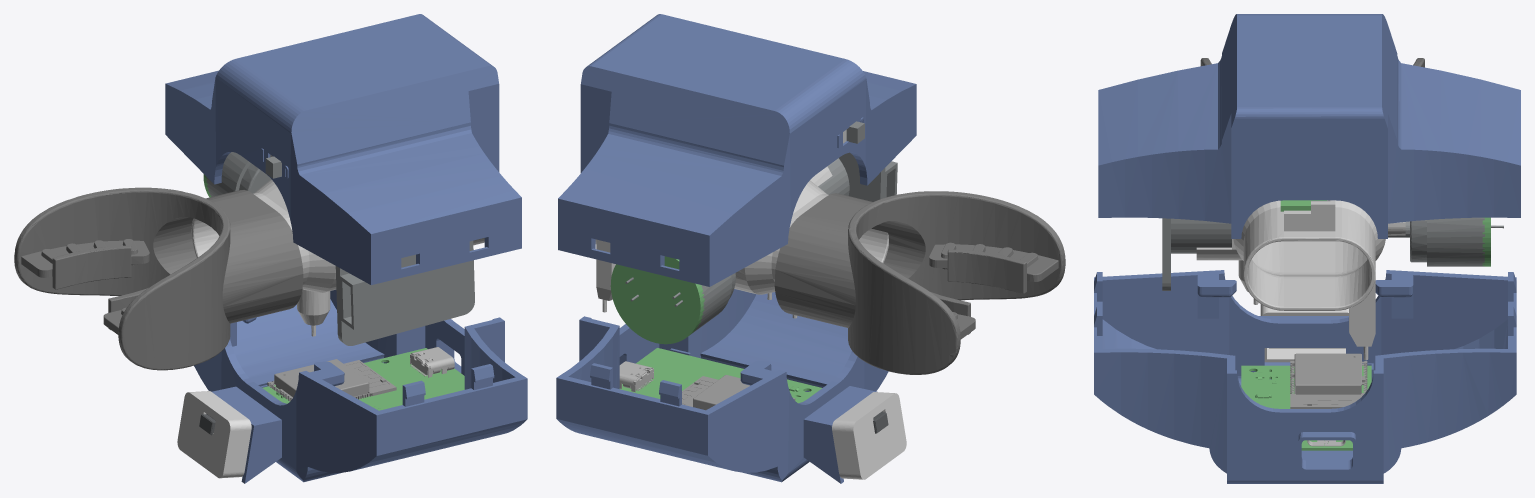
Rendered from Aerostim.glb.
The picture shows the model from 3 angles, left to right: view 1: azimuth 30°, elevation 25°; view 2: azimuth 150°, elevation 25°; view 3: azimuth 270°, elevation 25°; orthographic projection. The views are drawn at different scales.
Parts seen in each view (by area): view 1: Mesh_Mesh_head_geo.001_lambert2SG.001; view 2: Mesh_Mesh_head_geo.001_lambert2SG.001; view 3: Mesh_Mesh_head_geo.001_lambert2SG.001.
Boxes of the visible parts, bbox=[...] form: Mesh_Mesh_head_geo.001_lambert2SG.001: bbox=[14, 14, 527, 483]; Mesh_Mesh_head_geo.001_lambert2SG.001: bbox=[556, 14, 1065, 483]; Mesh_Mesh_head_geo.001_lambert2SG.001: bbox=[1094, 14, 1520, 483].
Size of the model in its own units: 0.1128 by 0.0979 by 0.1.
